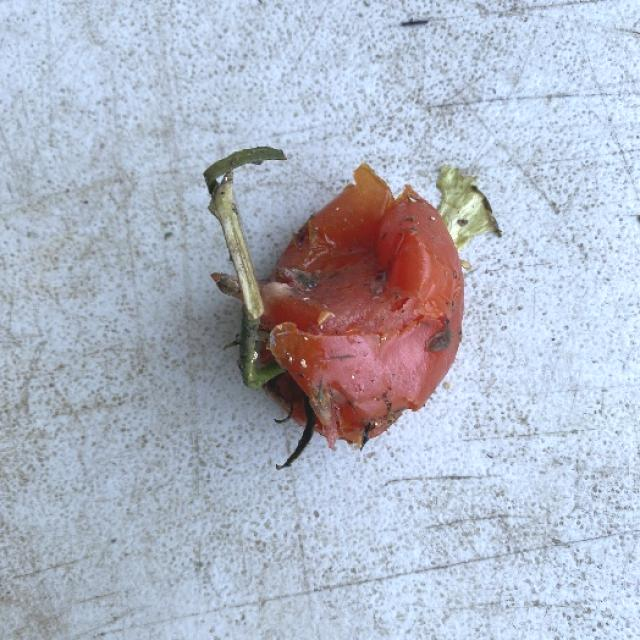wet: (233, 178, 487, 444)
